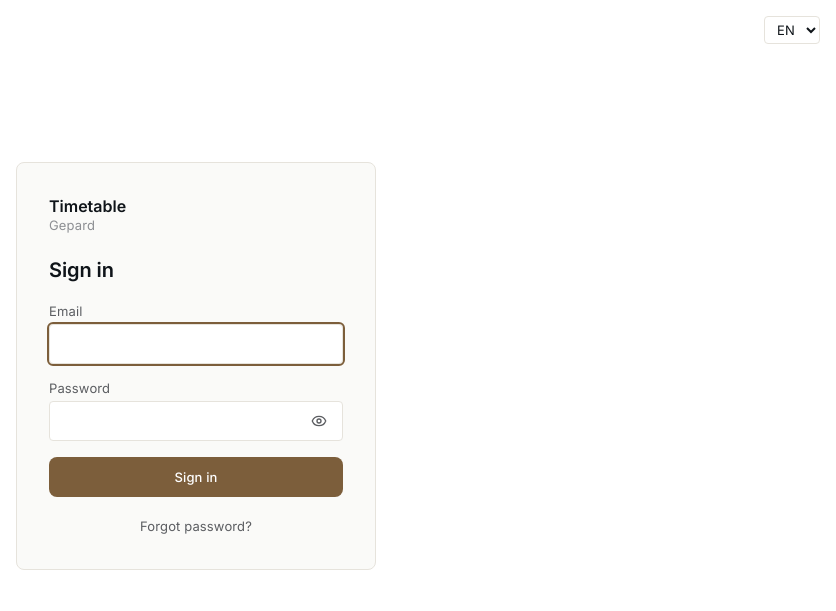
LoginPage › zeigt Error wenn API 401 wirft
The image size is (836, 611).
Type "a@b.local" into the field labelled "Email" at (196, 344), box [49, 324, 343, 364]
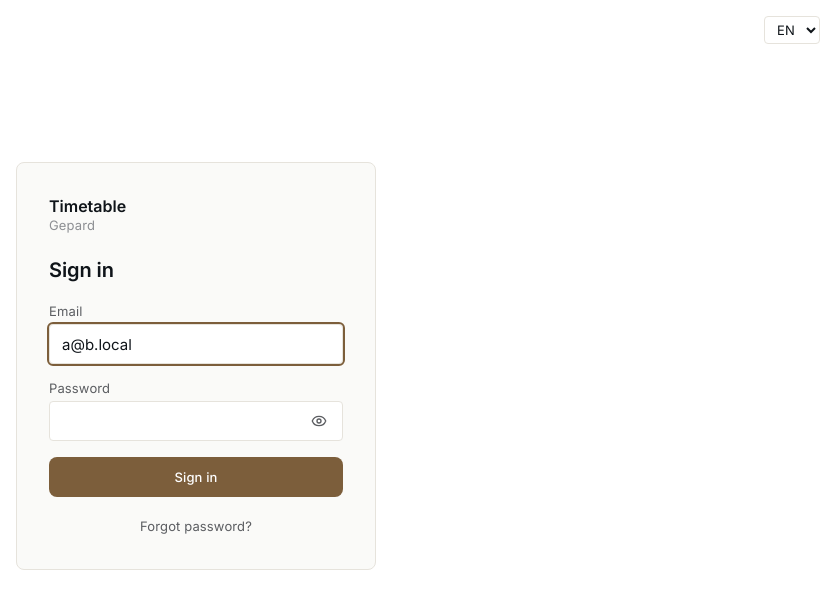
Type "wrong" into the password field labelled "Password" at (196, 421), box [49, 401, 343, 441]
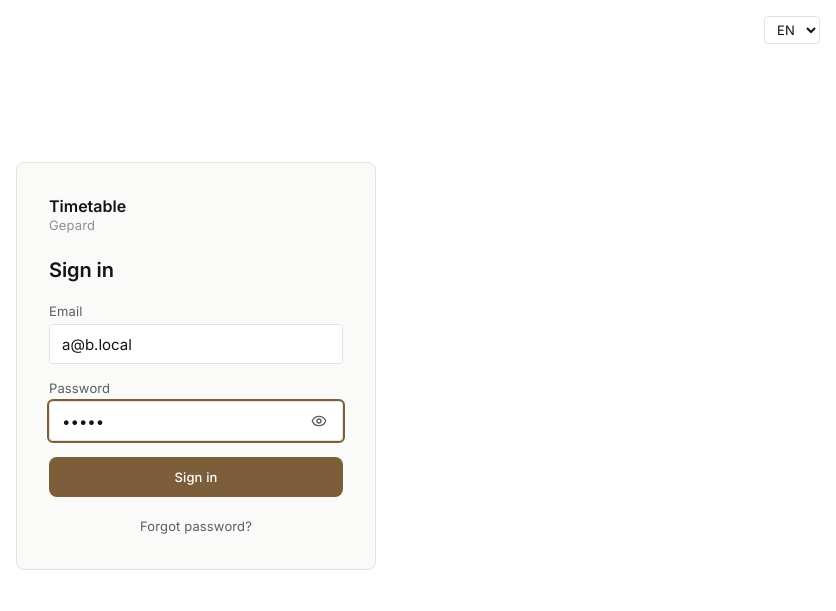
Click the button "Sign in" at (196, 477), box [49, 457, 343, 497]
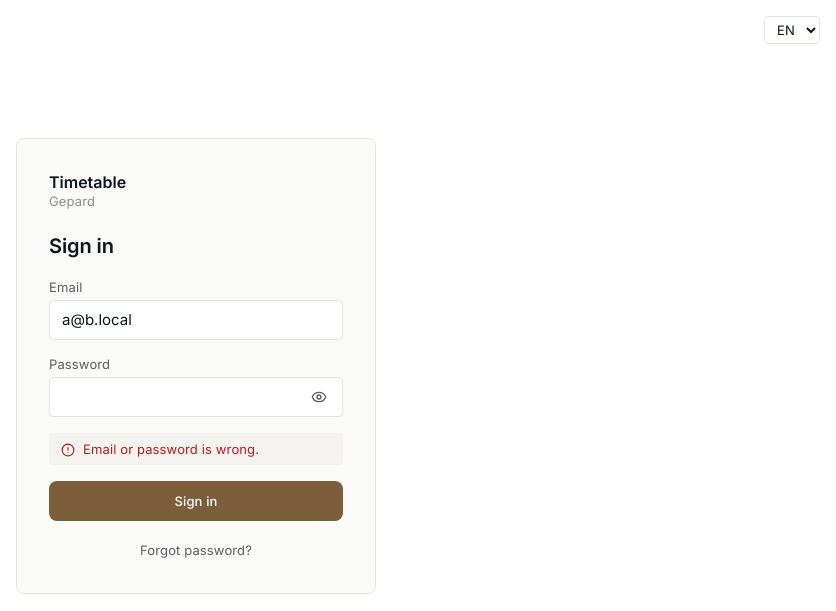
expect the text "Email or password is wrong." is shown: met, box [83, 441, 259, 458]
